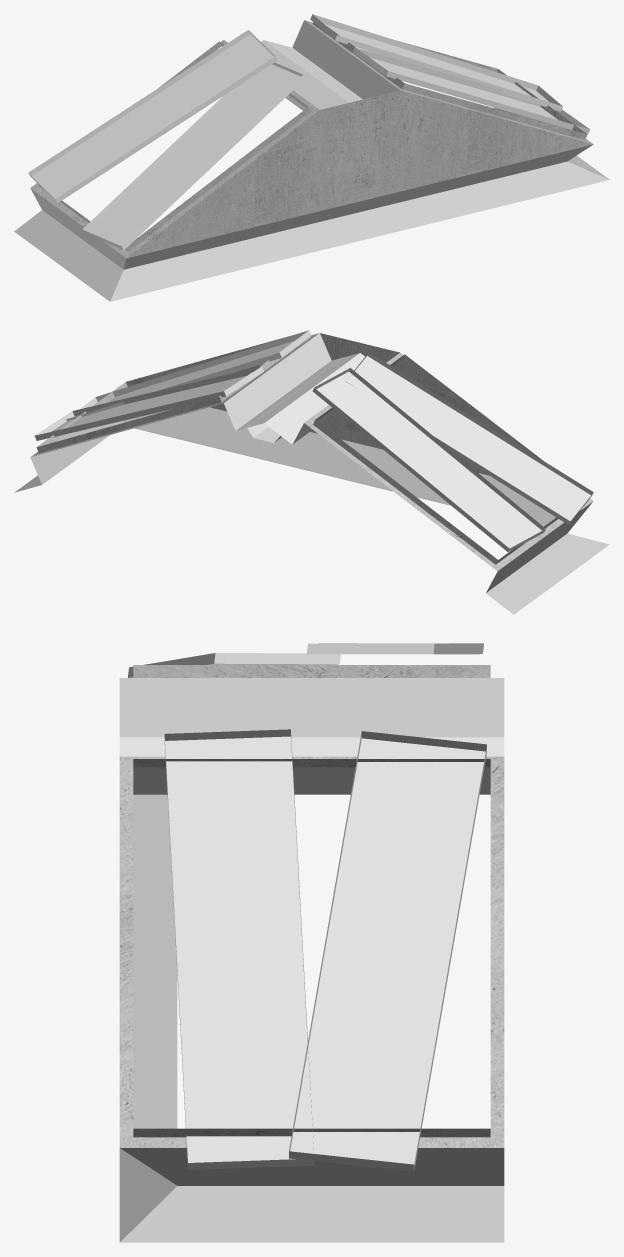
File: C_RoofEnd.fbx
3 renders of one model, top to bottom at view 1: azimuth 30°, elevation 25°; view 2: azimuth 150°, elevation 25°; view 3: azimuth 270°, elevation 25°, orthographic. The views are drawn at different scales.
Visible parts, largest first — view 1: C_RoofEnd; view 2: C_RoofEnd; view 3: C_RoofEnd.
Boxes of the visible parts, bbox=[...] form: C_RoofEnd: bbox=[14, 14, 609, 301]; C_RoofEnd: bbox=[14, 330, 609, 614]; C_RoofEnd: bbox=[119, 643, 504, 1242].
Bounding box in the file's own units: 1206 × 371 × 400.
